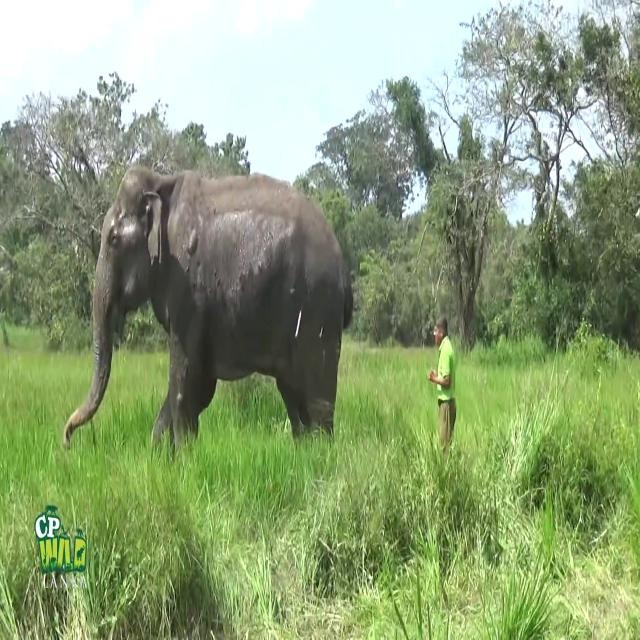Elephant: (63, 164, 353, 460)
person: (427, 315, 457, 461)
